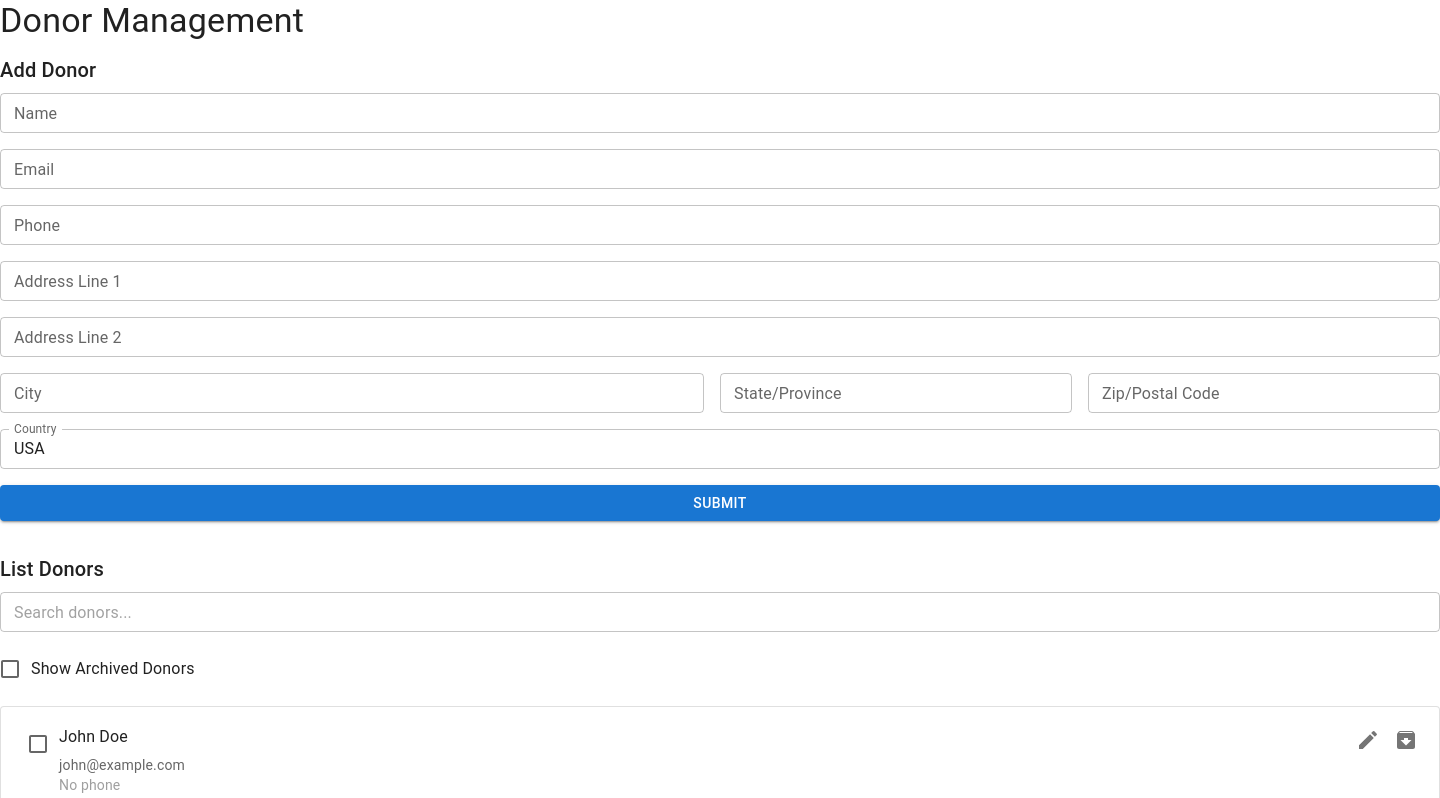
Scenario: DonorsPage › merges donors when merge confirmed
Expected: the text "John Doe" is shown, [59,723,128,751]
Select both donors
Click the 2nd checkbox: point(38, 744) [26,732,50,756]
(page scrolled)
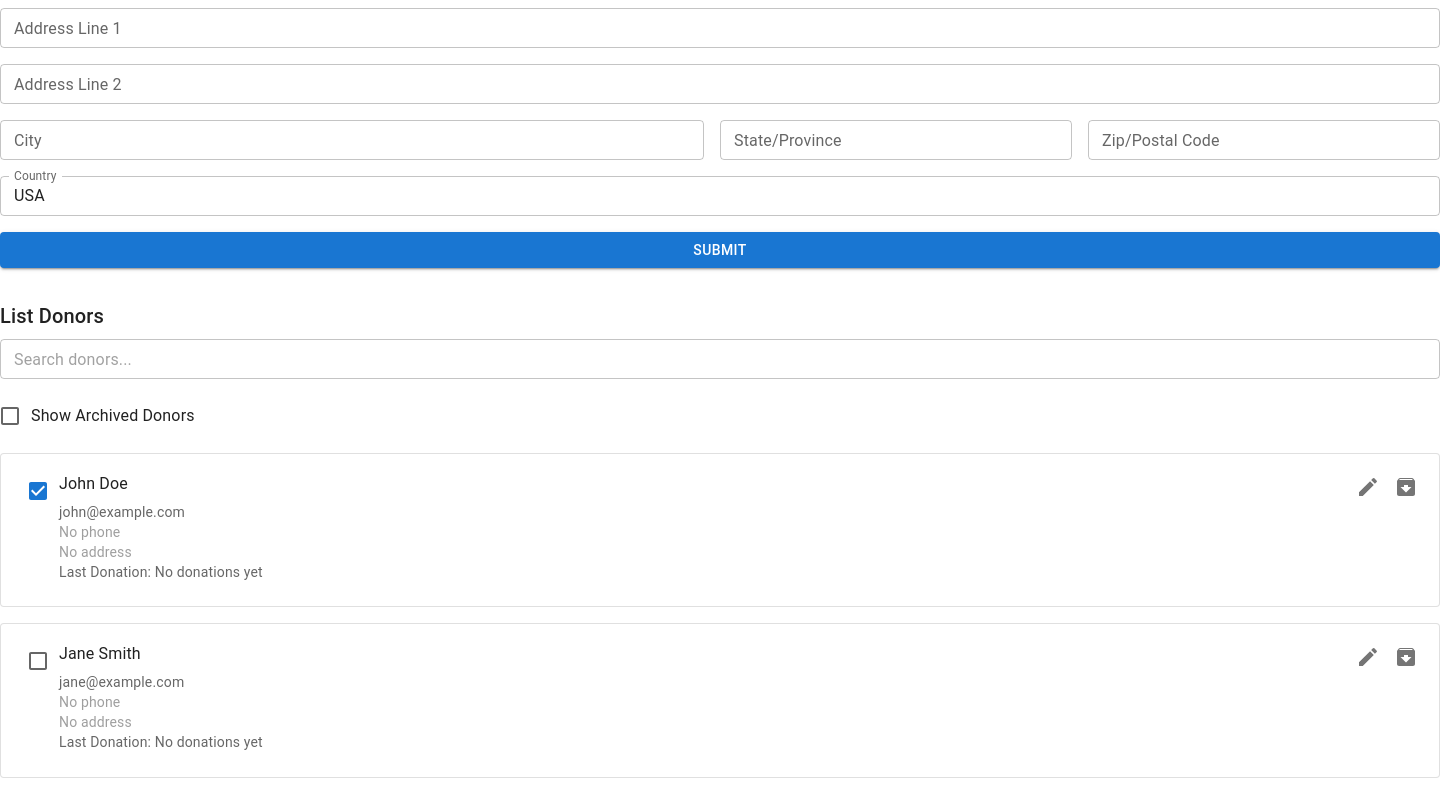
Click the 3rd checkbox: point(38, 661) [26,649,50,673]
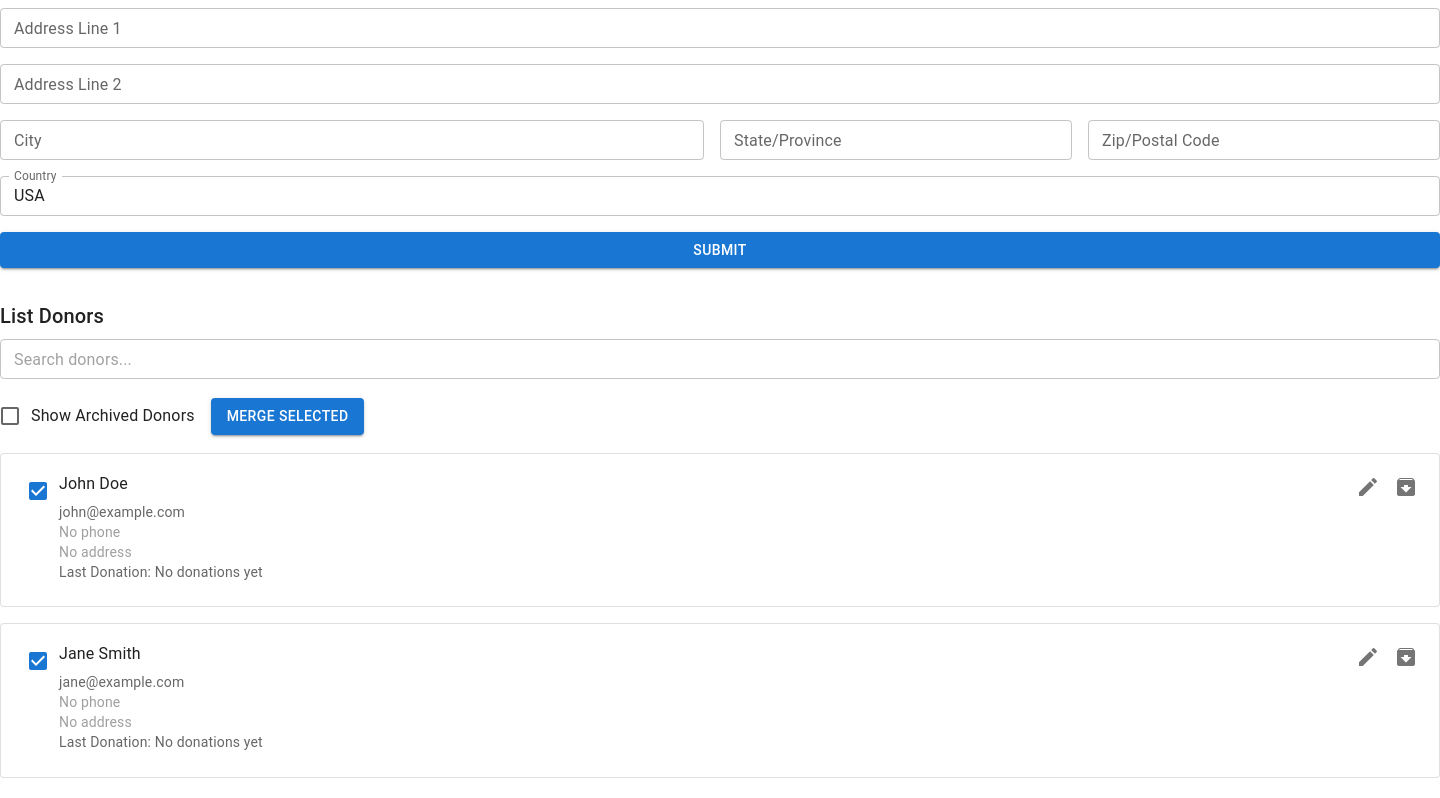
Click merge button
Click the button "Merge Selected": point(288, 416) [211,398,364,435]
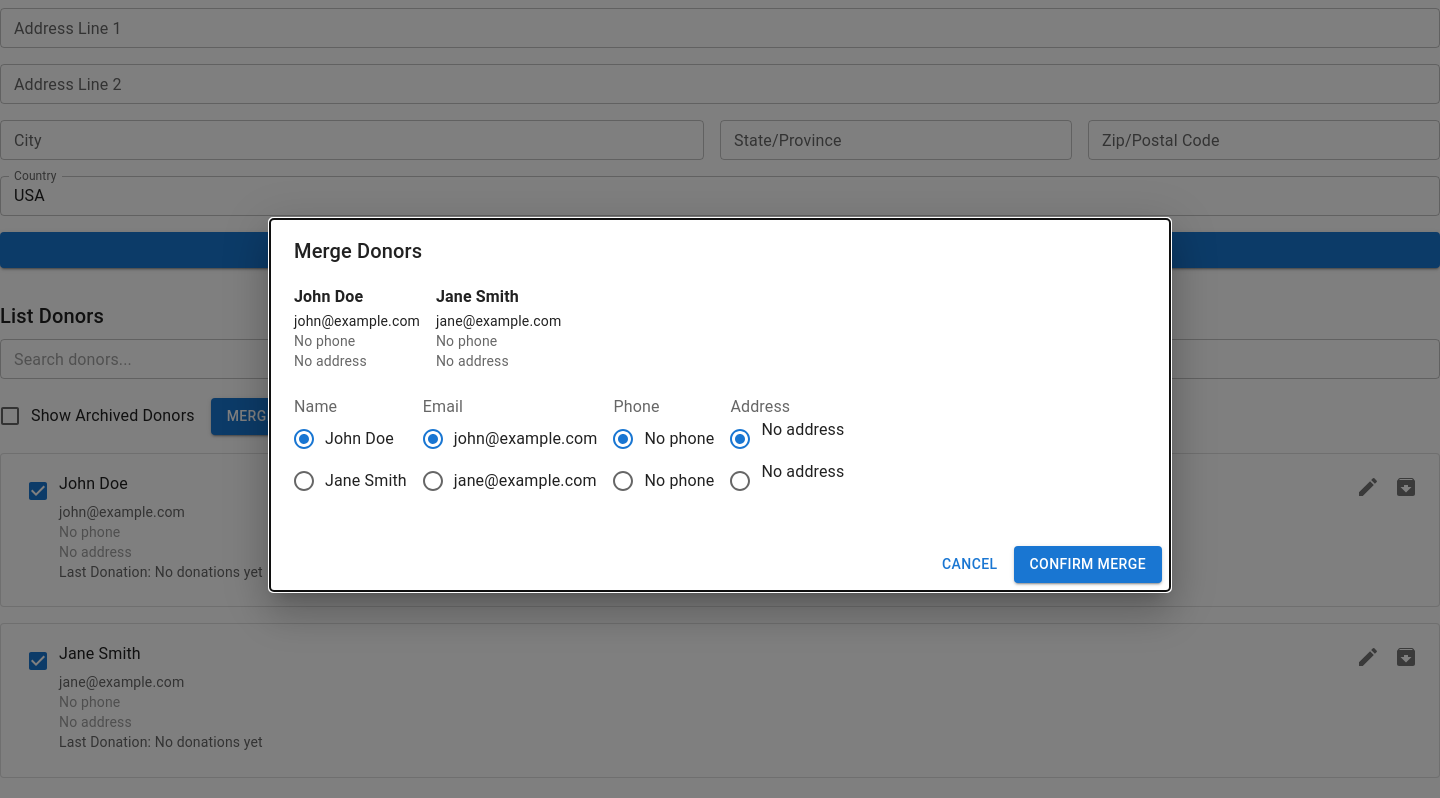
Click the button "Confirm Merge": point(1088, 565) [1014,546,1162,583]
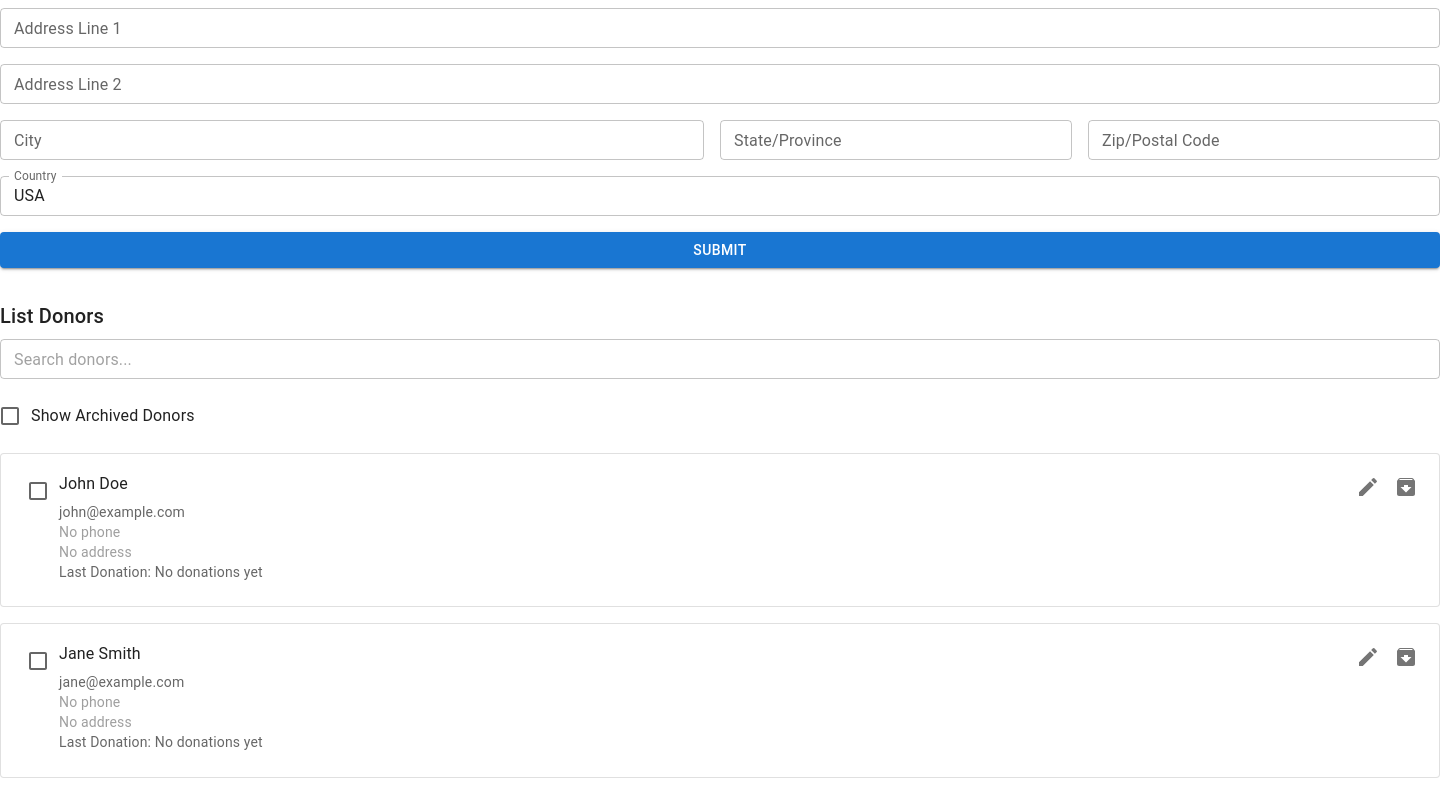
Expected: the heading "Merge Donors" is gone
